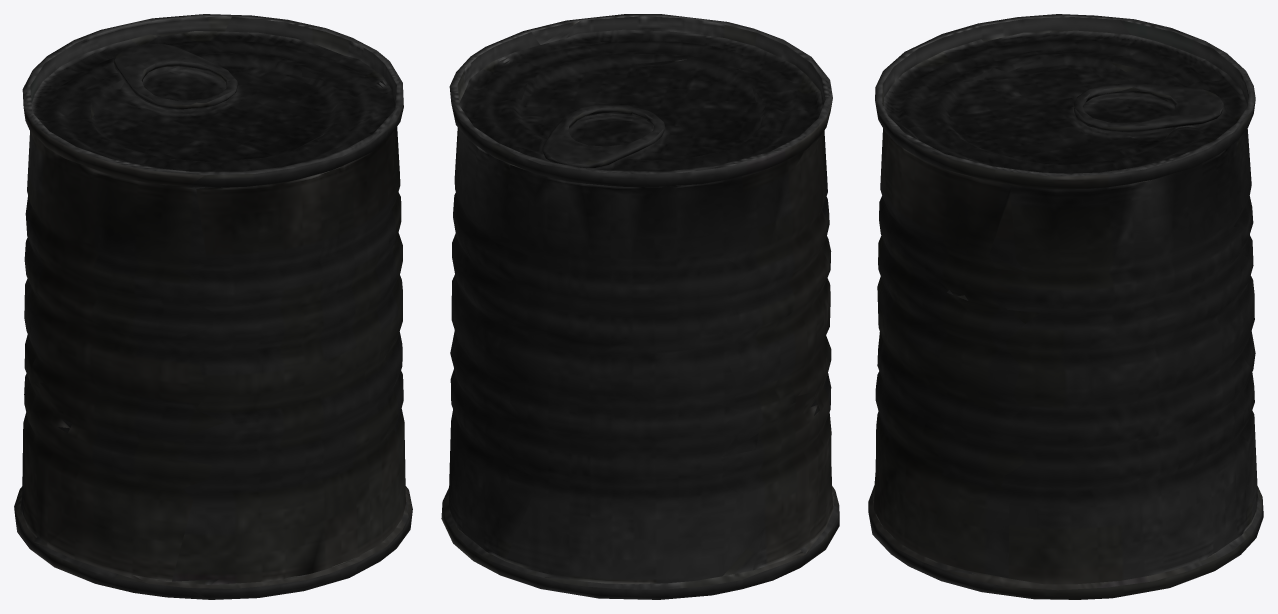
Rendered from can.glb.
The picture shows the model from 3 angles, left to right: view 1: azimuth 30°, elevation 25°; view 2: azimuth 150°, elevation 25°; view 3: azimuth 270°, elevation 25°; orthographic projection.
Visible parts, largest first — view 1: Mesh0; view 2: Mesh0; view 3: Mesh0.
Part boxes in pixels (<box>): Mesh0: <box>14,14,412,599</box>; Mesh0: <box>441,14,839,599</box>; Mesh0: <box>868,14,1263,599</box>.
Size of the model in its own units: 0.8549 by 1 by 0.8519.
Materials: 1 (1 with a texture image).
